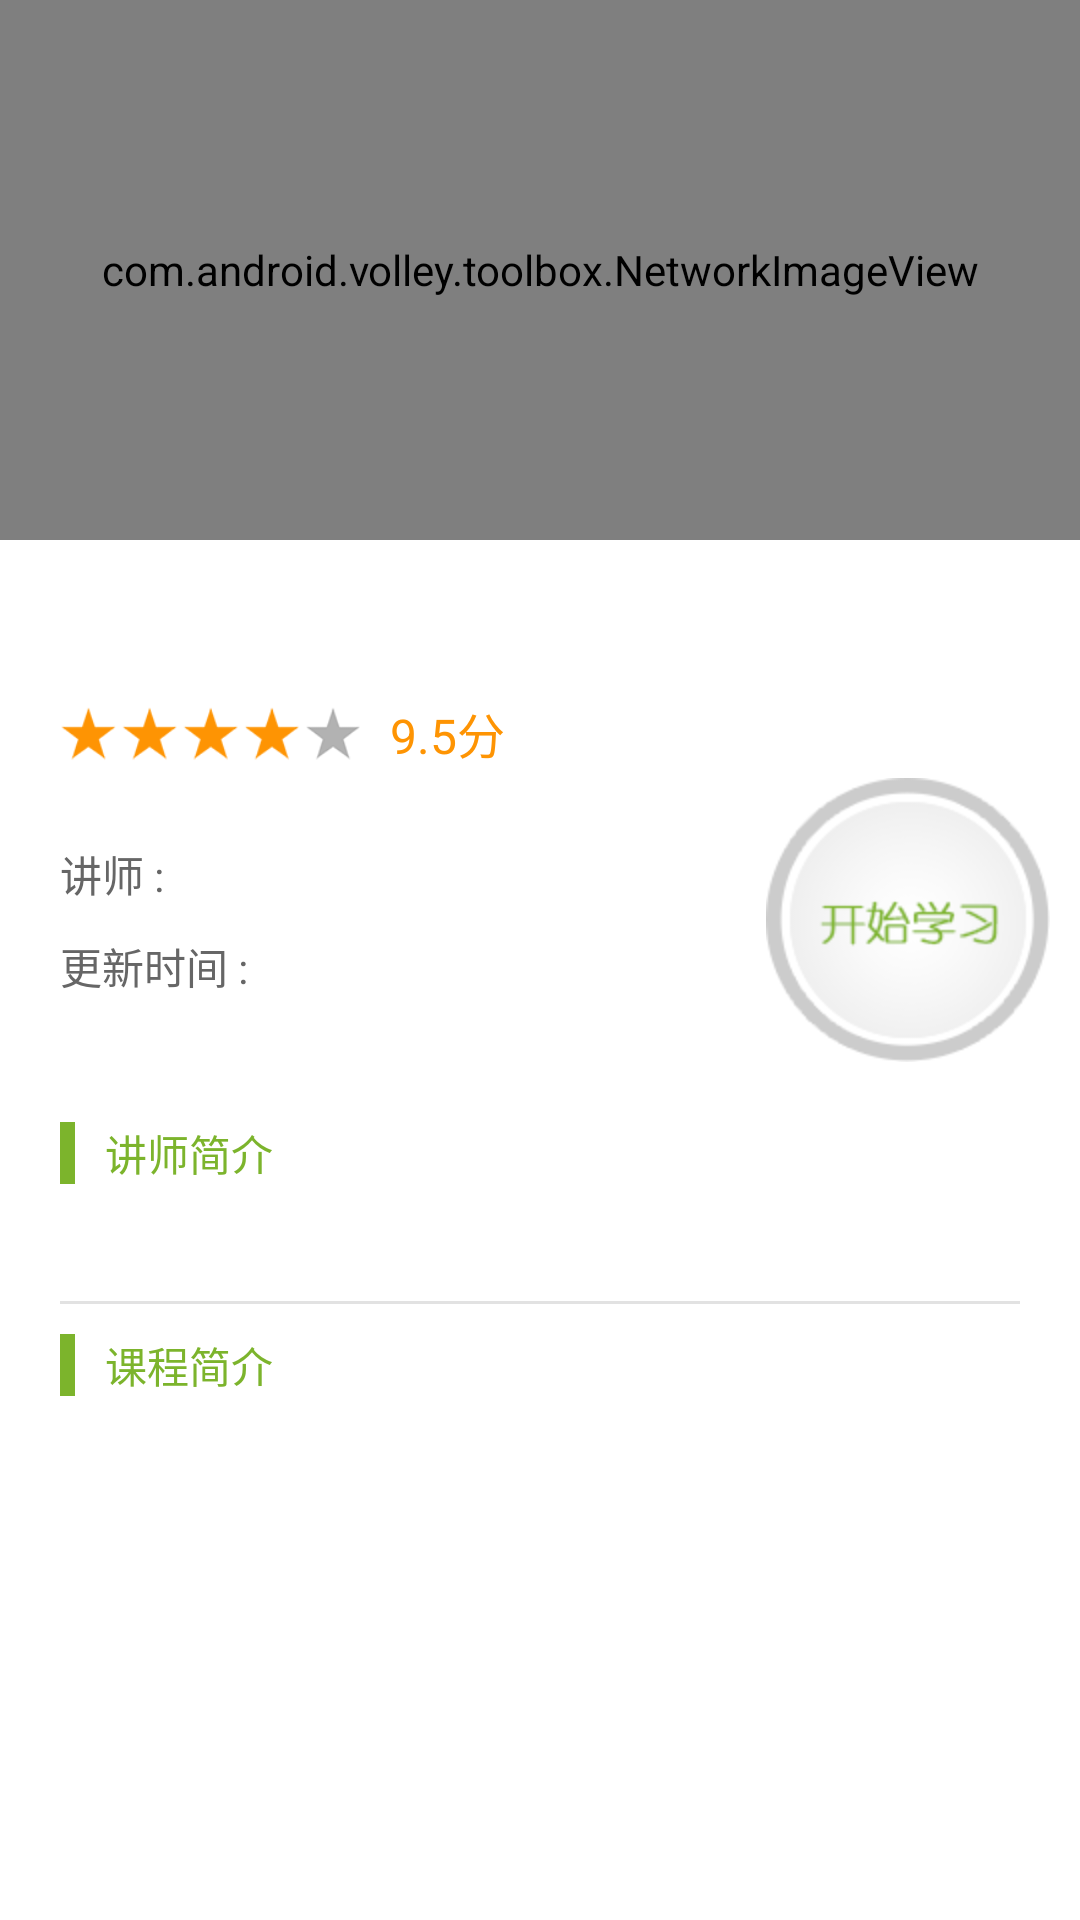

Where to tap for icons on this 1080 x 1920 app screen, as (x=x, y=y):
star: (x=210, y=734)
